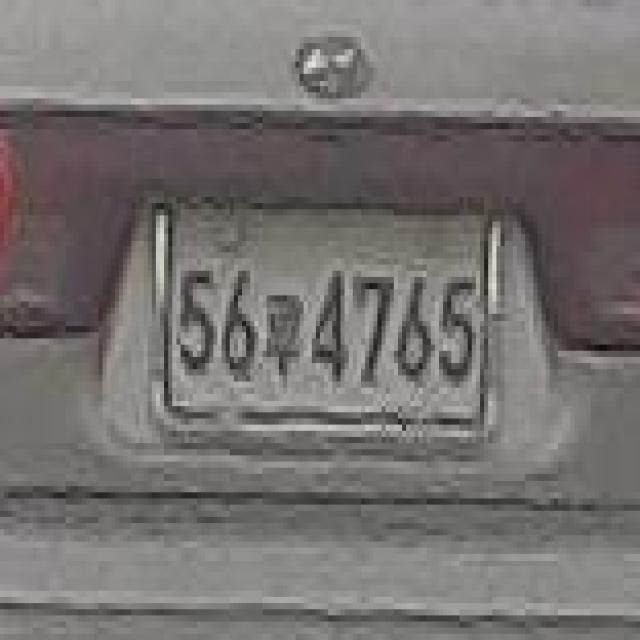illegal_plate: (157, 198, 497, 458)
